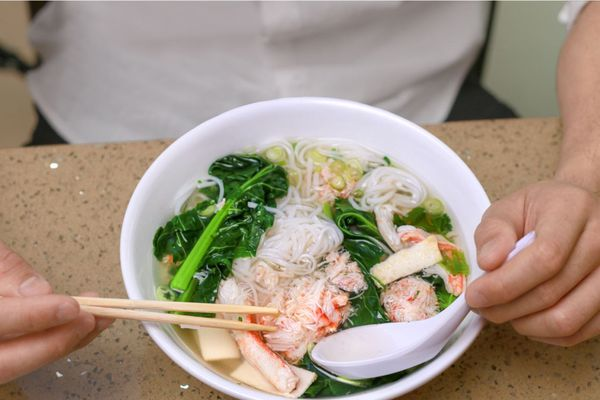curry: (155, 153, 290, 303)
salad: (50, 293, 279, 334)
sushi: (115, 95, 491, 391)
